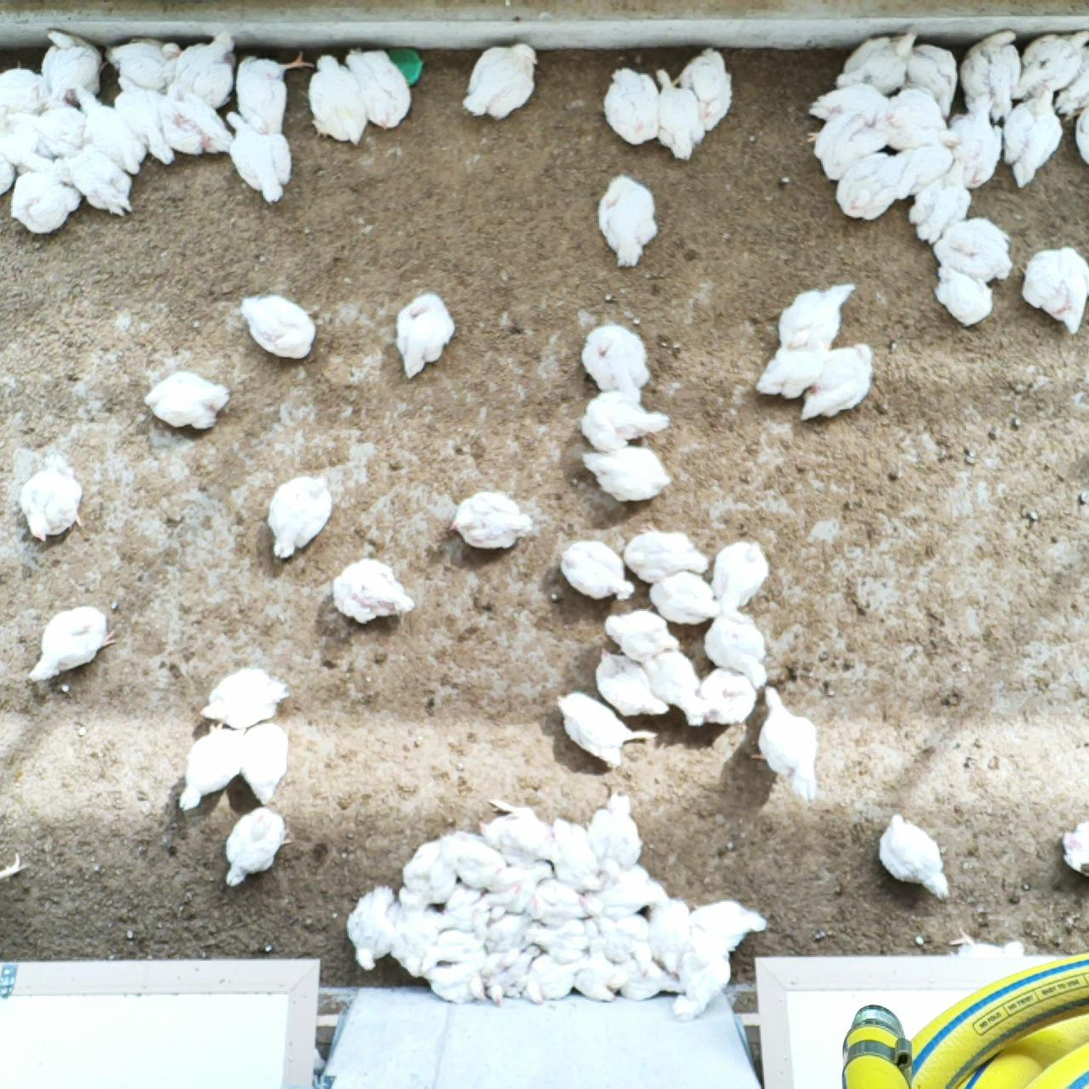chicken: (747, 683, 822, 805), (551, 687, 658, 771), (25, 602, 121, 689), (794, 338, 878, 432), (71, 81, 150, 177), (1002, 79, 1068, 190), (872, 810, 951, 902), (235, 50, 316, 136), (217, 803, 295, 892), (175, 719, 247, 815), (223, 108, 294, 205), (594, 172, 663, 271), (197, 662, 292, 733), (1015, 243, 1089, 334), (775, 279, 860, 358), (264, 470, 336, 563), (390, 286, 458, 384), (53, 137, 136, 217), (327, 553, 416, 627), (463, 41, 540, 125), (959, 27, 1025, 125), (878, 80, 966, 153), (145, 86, 235, 156), (17, 454, 87, 544), (140, 367, 232, 435), (111, 74, 178, 167), (907, 154, 976, 244), (344, 45, 413, 134), (237, 290, 318, 365), (593, 645, 674, 720), (306, 52, 371, 145), (577, 320, 653, 399), (35, 24, 108, 106), (933, 214, 1015, 287), (621, 520, 714, 584), (836, 27, 921, 97), (554, 537, 639, 607), (700, 607, 773, 688), (579, 443, 674, 505), (579, 386, 671, 450), (673, 44, 741, 130), (649, 66, 708, 164), (834, 148, 912, 222), (471, 795, 555, 863), (804, 115, 884, 184), (447, 488, 533, 552), (166, 31, 238, 107), (951, 88, 1004, 191), (1015, 29, 1089, 102), (601, 63, 664, 148), (641, 651, 710, 726), (581, 864, 670, 921), (711, 539, 770, 624), (344, 882, 400, 971), (101, 33, 184, 93), (751, 338, 825, 405), (583, 790, 646, 868), (896, 129, 964, 201), (9, 168, 82, 235), (670, 947, 734, 1023), (388, 885, 439, 978), (933, 259, 997, 331), (239, 720, 294, 803), (399, 837, 459, 912), (644, 894, 696, 980), (688, 896, 769, 951), (647, 568, 721, 627), (549, 817, 606, 893), (905, 44, 961, 121), (602, 608, 681, 660), (438, 831, 506, 889), (30, 94, 90, 159), (482, 942, 540, 1008), (696, 666, 757, 728), (489, 859, 554, 915), (806, 82, 891, 124), (527, 879, 604, 925), (614, 952, 683, 1002), (596, 912, 655, 963), (0, 107, 44, 174), (524, 954, 580, 1006), (425, 960, 488, 1006), (0, 59, 51, 115), (420, 928, 481, 971), (947, 926, 1026, 958), (530, 918, 591, 959), (436, 889, 493, 929), (575, 952, 617, 1003), (484, 911, 535, 953), (1058, 817, 1089, 877), (1067, 101, 1089, 167), (0, 154, 15, 197)
